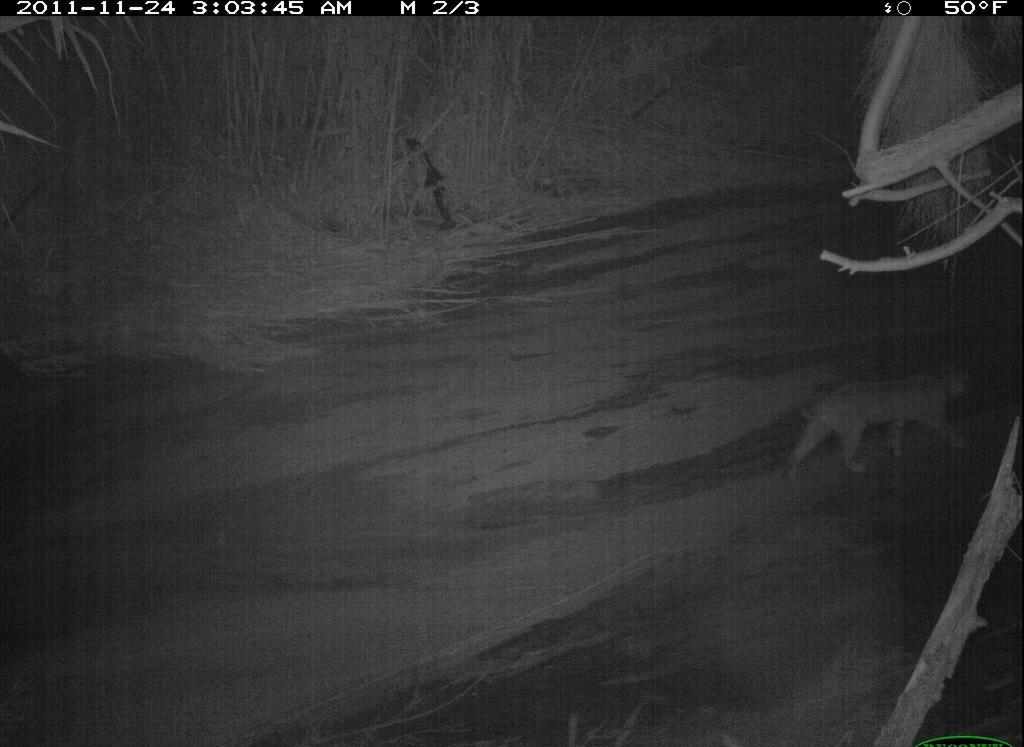bobcat: (783, 354, 981, 481)
